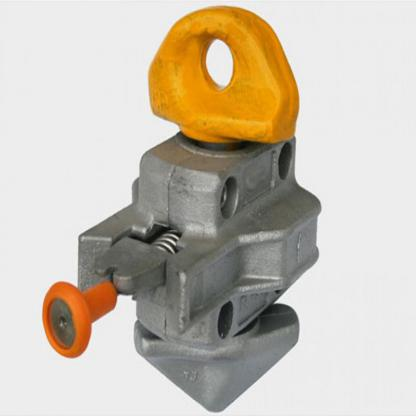Twistlock: (47, 4, 322, 407)
